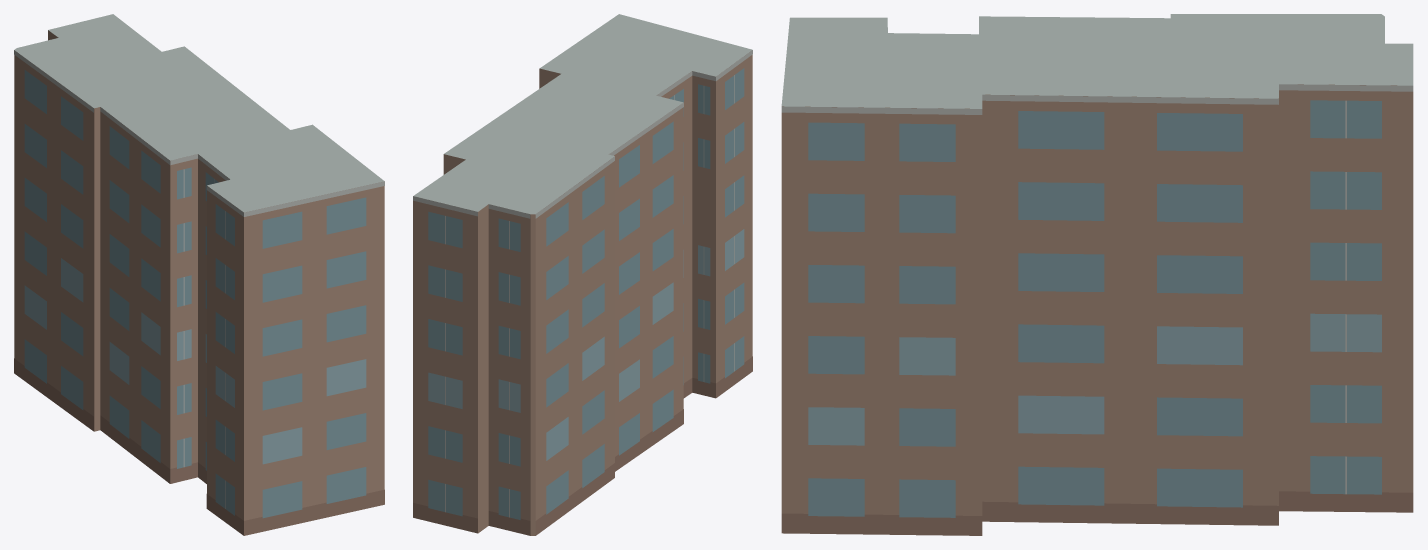
The model's file is survey-upis-33024890.glb.
3 renders of one model, left to right at view 1: azimuth 30°, elevation 25°; view 2: azimuth 150°, elevation 25°; view 3: azimuth 270°, elevation 25°, orthographic. The views are drawn at different scales.
Parts seen in each view (by area): view 1: survey-upis-33024890.tmp; view 2: survey-upis-33024890.tmp; view 3: survey-upis-33024890.tmp.
Part boxes in pixels (<box>): survey-upis-33024890.tmp: <box>14,14,384,535</box>; survey-upis-33024890.tmp: <box>413,14,752,535</box>; survey-upis-33024890.tmp: <box>781,14,1413,535</box>.
Bounding box in the file's own units: 8.17 × 17.1 × 22.95.
